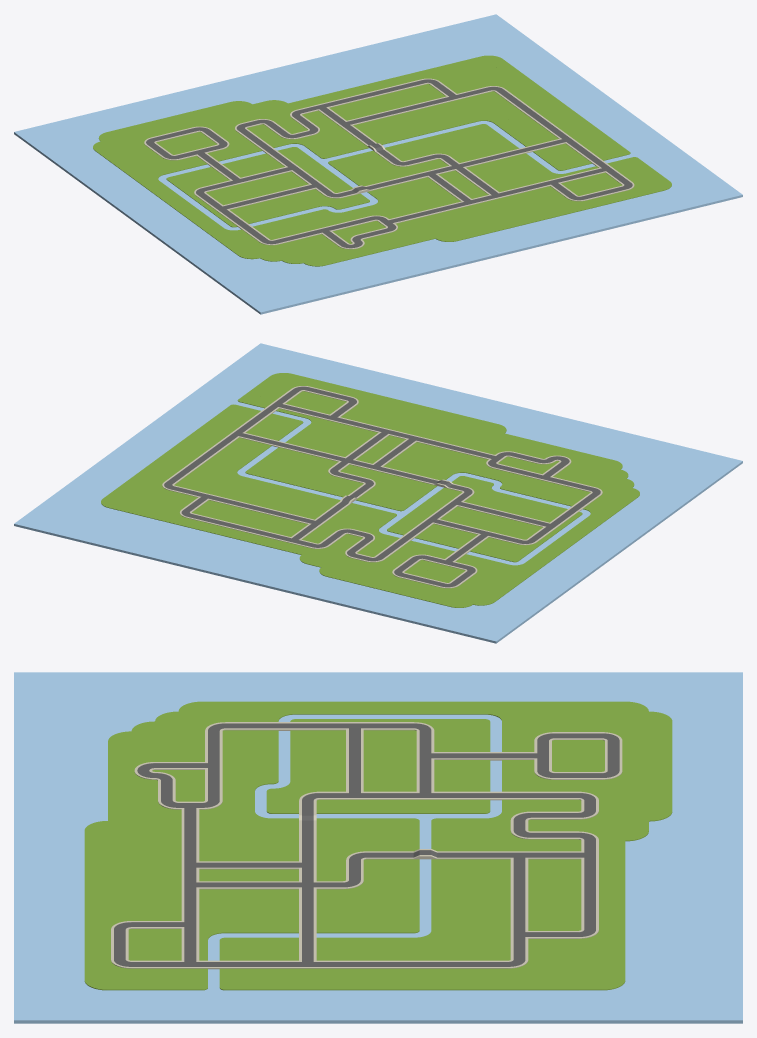
File: CityMap.obj
The picture shows the model from 3 angles, top to bottom: view 1: azimuth 30°, elevation 25°; view 2: azimuth 150°, elevation 25°; view 3: azimuth 270°, elevation 25°; orthographic projection. The views are drawn at different scales.
Parts seen in each view (by area): view 1: Mesh1_Group1_Model.691_Mesh1_Group1_Model.763; view 2: Mesh1_Group1_Model.691_Mesh1_Group1_Model.763; view 3: Mesh1_Group1_Model.691_Mesh1_Group1_Model.763.
Boxes of the visible parts, x1,y1,x2,y2 form: Mesh1_Group1_Model.691_Mesh1_Group1_Model.763: (14,14,742,314); Mesh1_Group1_Model.691_Mesh1_Group1_Model.763: (14,343,742,643); Mesh1_Group1_Model.691_Mesh1_Group1_Model.763: (14,672,742,1023).
Size of the model in its own units: 105 by 0.975 by 93.
